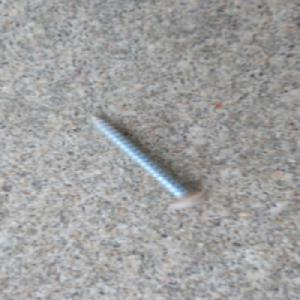Screw: (88, 114, 212, 213)
